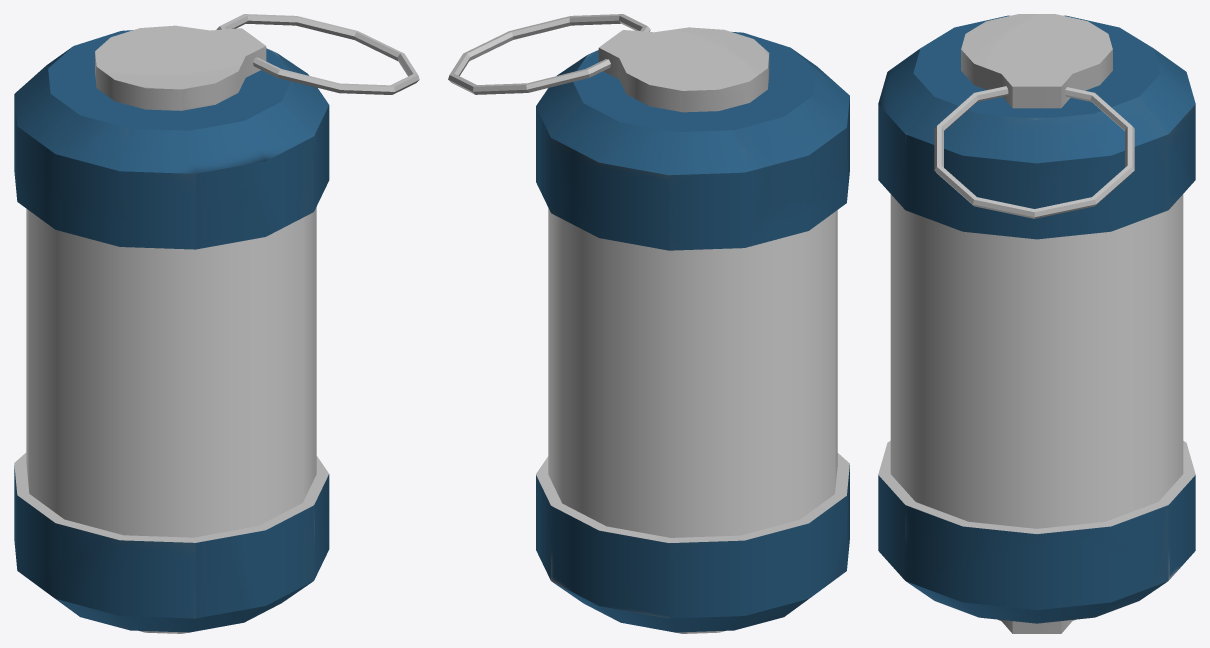
File: EMP.fbx
3 renders of one model, left to right at view 1: azimuth 30°, elevation 25°; view 2: azimuth 150°, elevation 25°; view 3: azimuth 270°, elevation 25°, orthographic.
Parts seen in each view (by area): view 1: pTorus2; view 2: pTorus2; view 3: pTorus2.
Part boxes in pixels (box(x1,y1,x2,y2)): pTorus2: box(14, 14, 419, 633); pTorus2: box(448, 14, 849, 633); pTorus2: box(878, 14, 1195, 633).
Size of the model in its own units: 2.67 by 3.77 by 1.99.
